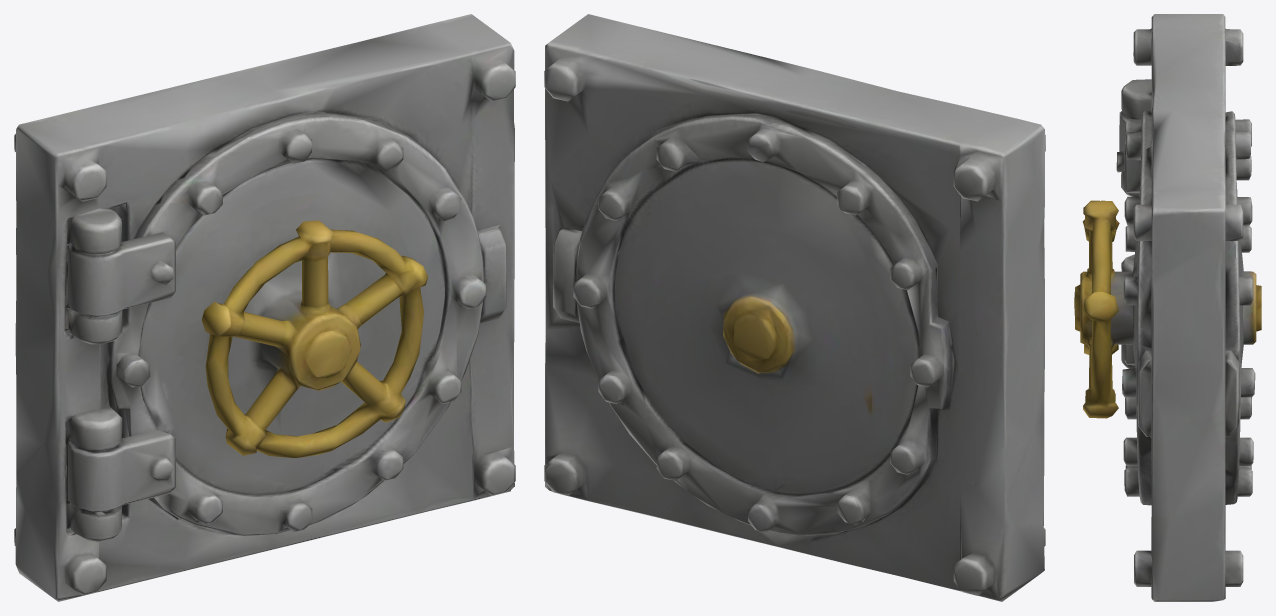
The model's file is vault.glb.
The picture shows the model from 3 angles, left to right: view 1: azimuth 30°, elevation 25°; view 2: azimuth 150°, elevation 25°; view 3: azimuth 270°, elevation 25°; orthographic projection. The views are drawn at different scales.
Parts seen in each view (by area): view 1: tripo_node_f06e66d9-853d-41e7-8b74-8bf45beb3b5e; view 2: tripo_node_f06e66d9-853d-41e7-8b74-8bf45beb3b5e; view 3: tripo_node_f06e66d9-853d-41e7-8b74-8bf45beb3b5e.
Boxes of the visible parts, <box> form: tripo_node_f06e66d9-853d-41e7-8b74-8bf45beb3b5e: <box>14,14,515,601</box>; tripo_node_f06e66d9-853d-41e7-8b74-8bf45beb3b5e: <box>544,14,1045,601</box>; tripo_node_f06e66d9-853d-41e7-8b74-8bf45beb3b5e: <box>1074,14,1261,601</box>.
Bounding box in the file's own units: 0.9786 × 0.9116 × 0.3935.
Materials: 1 (1 with a texture image).
